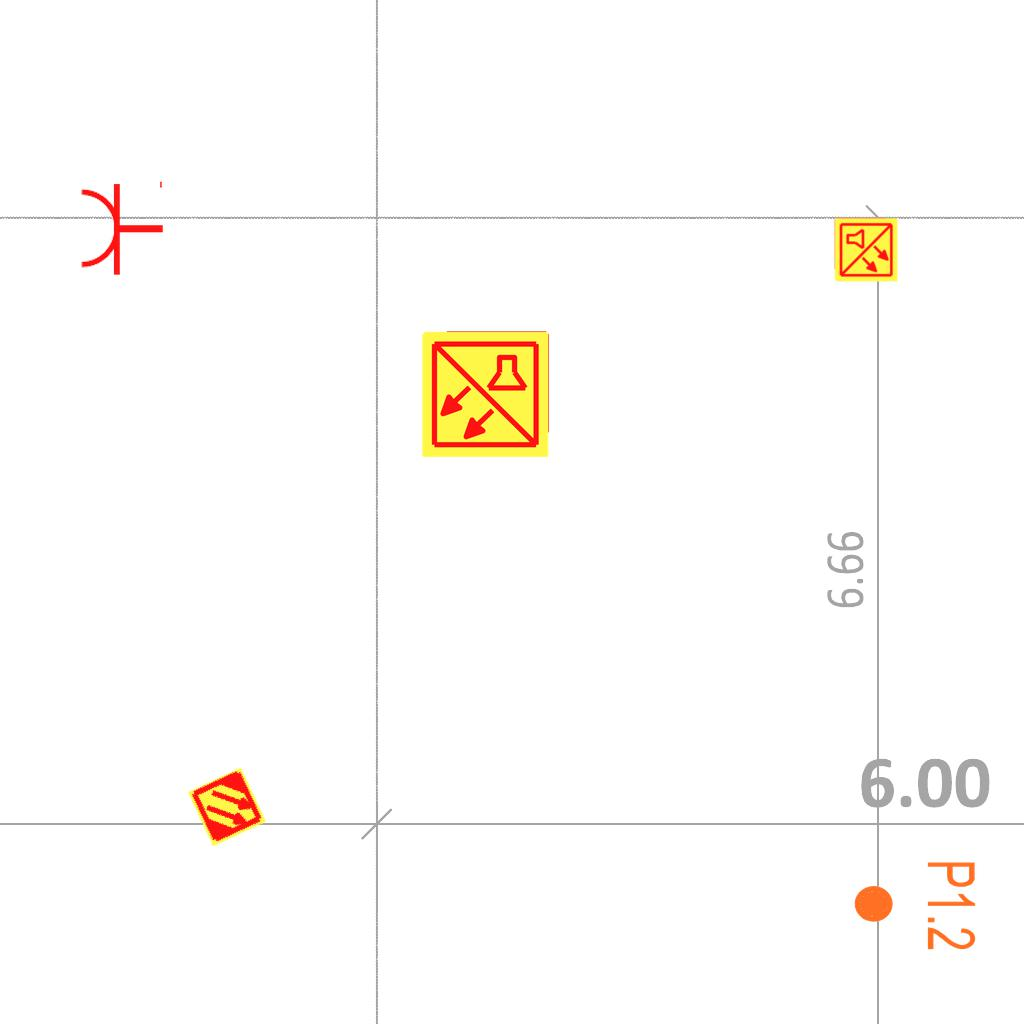ASR_Ansaugrauchmelder: (185, 765, 269, 849)
Downlight_LED_Einbauleuchten_Flur: (851, 859, 979, 952)
OKW_Multisensormelder_(Kombination_optischer_Rauch-Kahlenmonoxid_Waerme-Melder): (419, 328, 551, 460), (833, 217, 899, 283)
Schukosteckdose_einfach: (78, 177, 165, 277)
